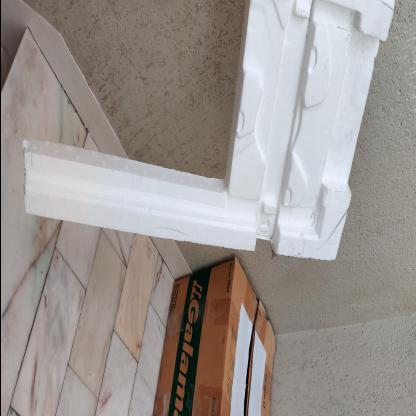karton: (150, 257, 278, 416)
kopuk: (22, 2, 400, 266)
